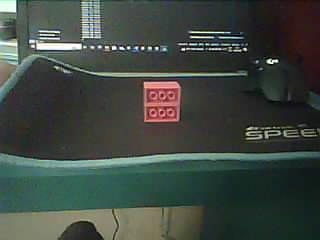lego: (142, 81, 181, 122)
